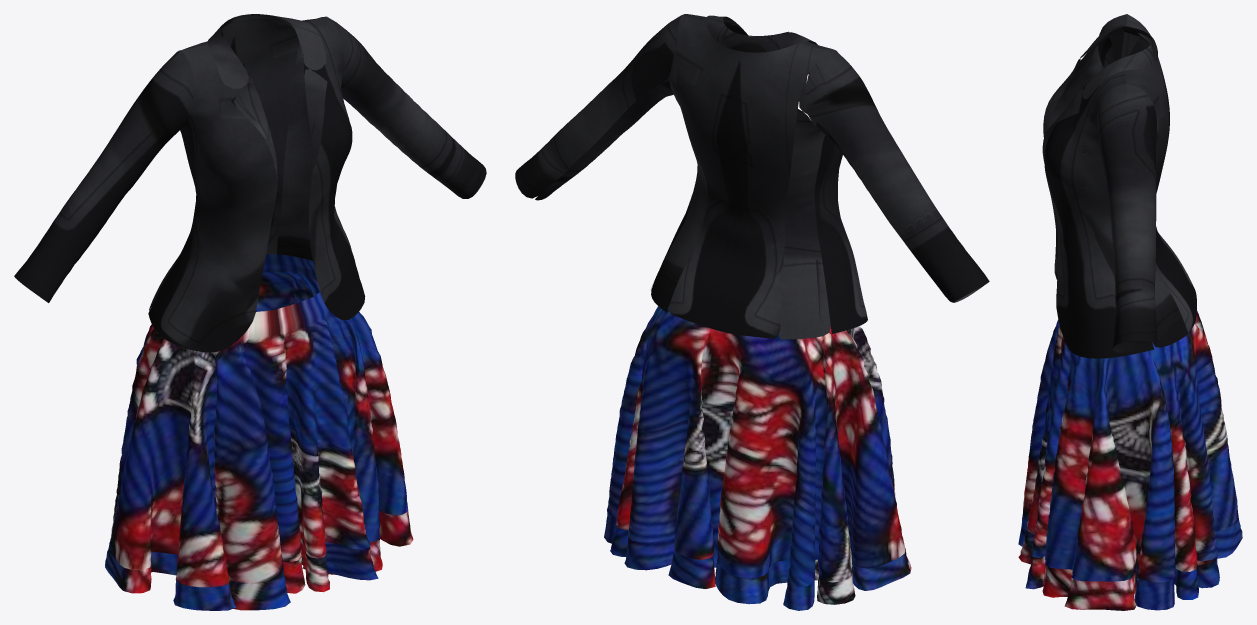
File: blazer_skirt.glb
The picture shows the model from 3 angles, left to right: view 1: azimuth 30°, elevation 25°; view 2: azimuth 150°, elevation 25°; view 3: azimuth 270°, elevation 25°; orthographic projection. The views are drawn at different scales.
Parts seen in each view (by area): view 1: all_two, all; view 2: all, all_two; view 3: all_two, all.
Boxes of the visible parts, x1,y1,x2,y2 form: all_two: (105,254,413,610); all: (14,14,486,352); all: (515,14,989,339); all_two: (604,305,911,610); all_two: (1018,310,1242,610); all: (1042,14,1196,358).
Bounding box in the file's own units: 0.5347 × 0.5892 × 0.2313.
Materials: 2 (2 with a texture image).
